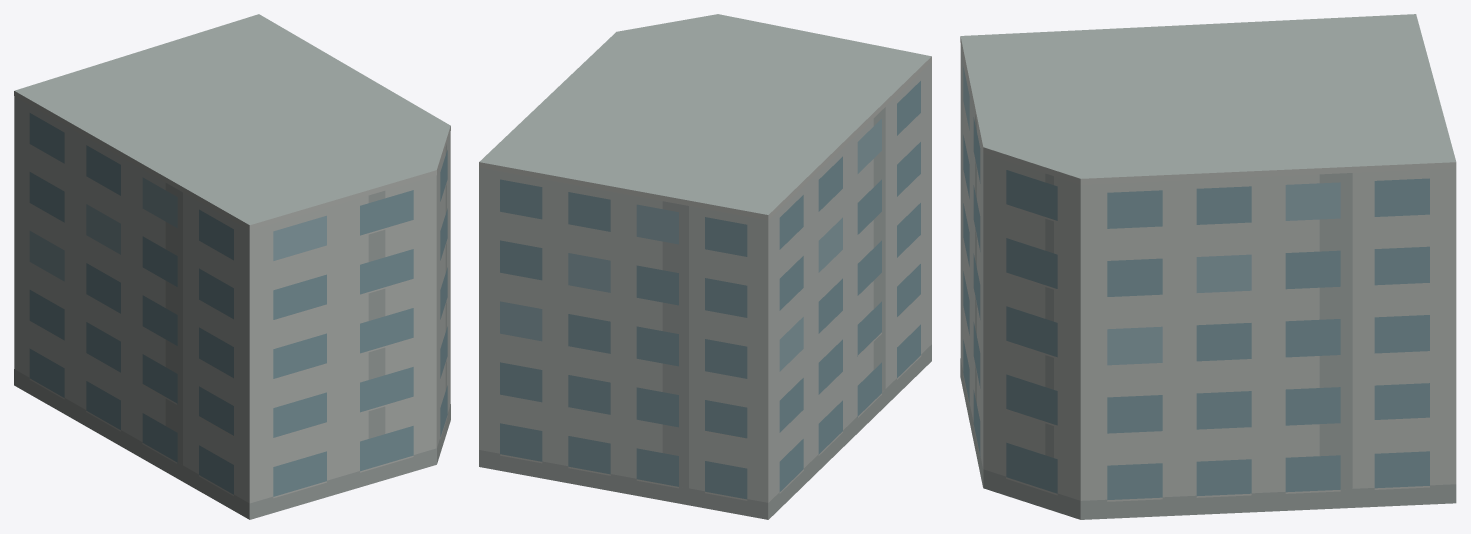
Rendered from survey-upis-32568137.glb.
3 views of the same model, side by side, from view 1: azimuth 30°, elevation 25°; view 2: azimuth 150°, elevation 25°; view 3: azimuth 270°, elevation 25° (orthographic). The views are drawn at different scales.
Parts seen in each view (by area): view 1: survey-upis-32568137.tmp; view 2: survey-upis-32568137.tmp; view 3: survey-upis-32568137.tmp.
Boxes of the visible parts, x1,y1,x2,y2 form: survey-upis-32568137.tmp: (14, 14, 450, 519); survey-upis-32568137.tmp: (479, 14, 931, 519); survey-upis-32568137.tmp: (960, 14, 1456, 519).
Bounding box in the file's own units: 14.05 × 13.55 × 17.87.
